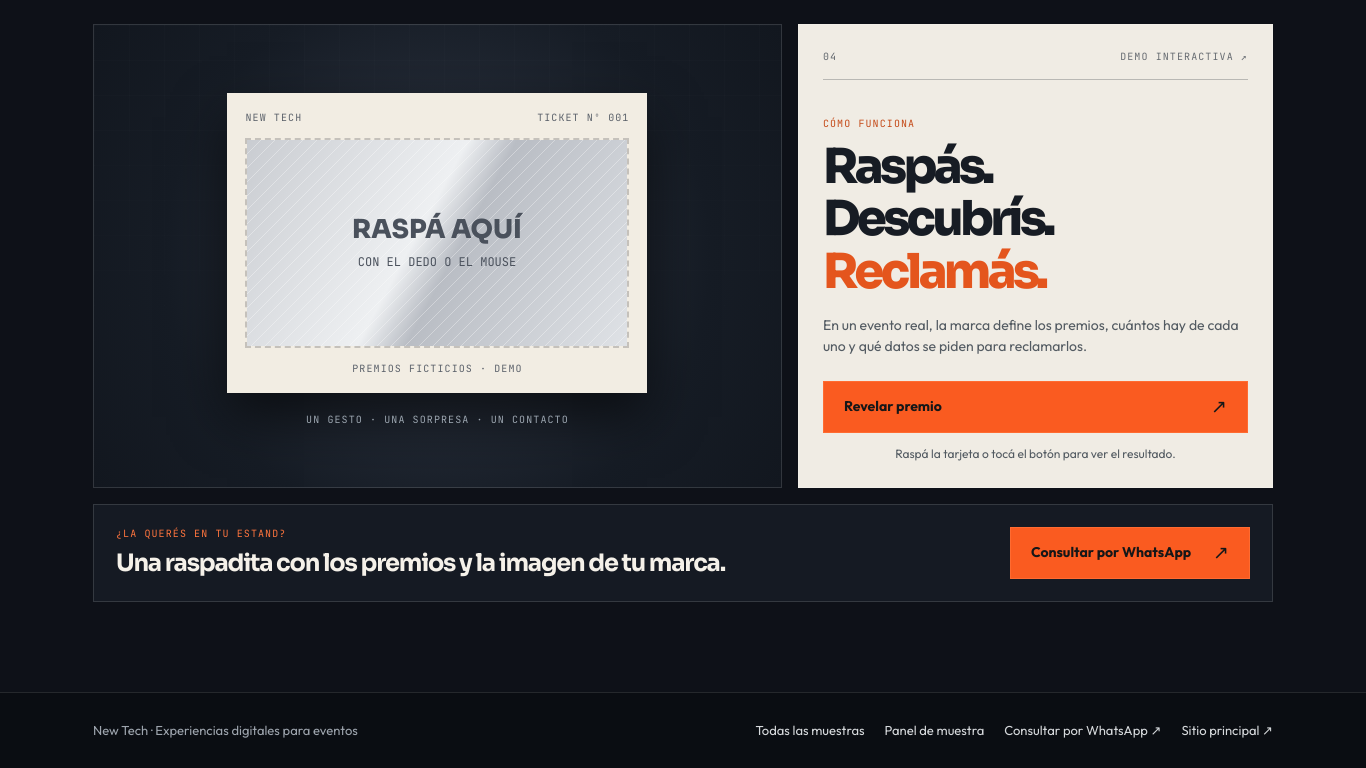
it: demo de experiencias › permite raspar otra tarjeta si no hay premio
(page scrolled)
Click the button "Revelar premio ↗" at coordinates (893, 406), box [823, 381, 1248, 433]
Wait 1000 ms
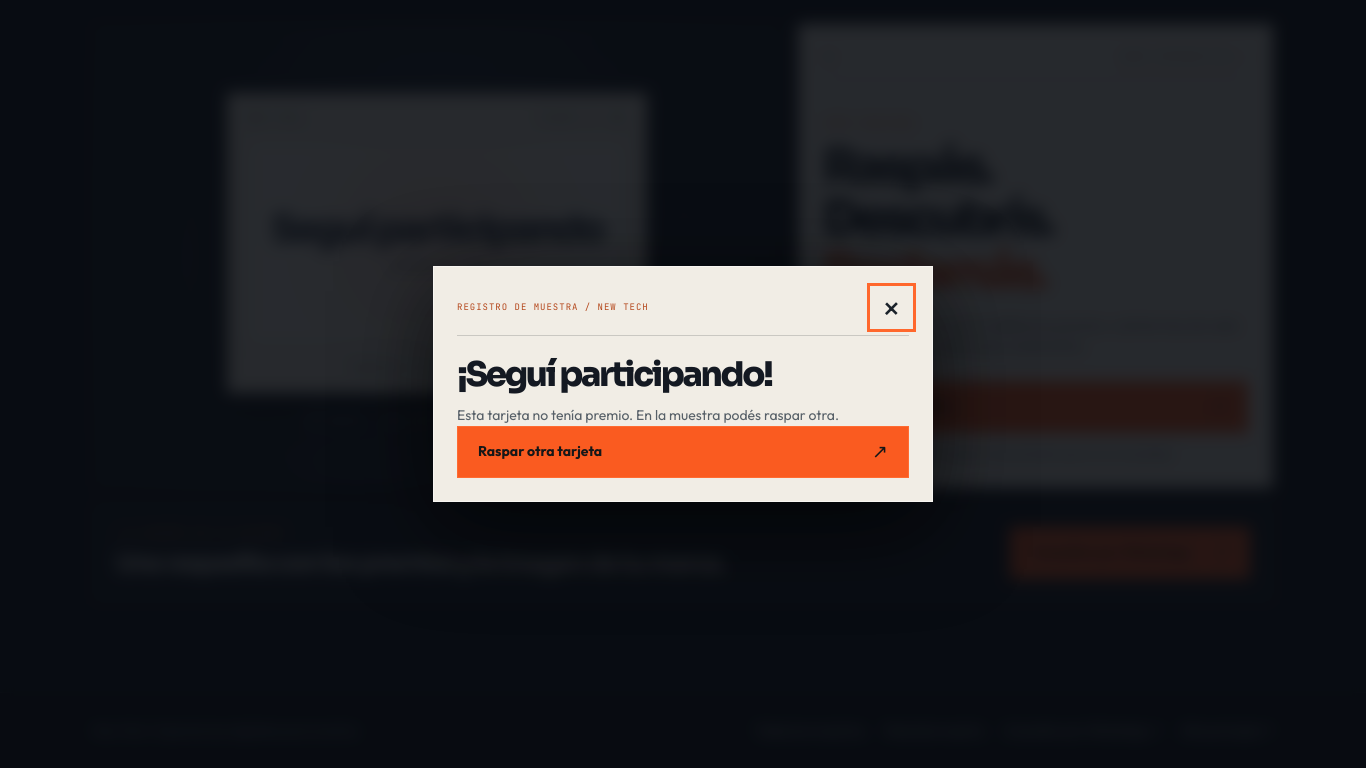
Check: the dialog "Seguí participando" is shown, box [433, 266, 933, 502]
Click the button "Raspar otra tarjeta ↗" at coordinates (540, 451), box [457, 426, 909, 478]
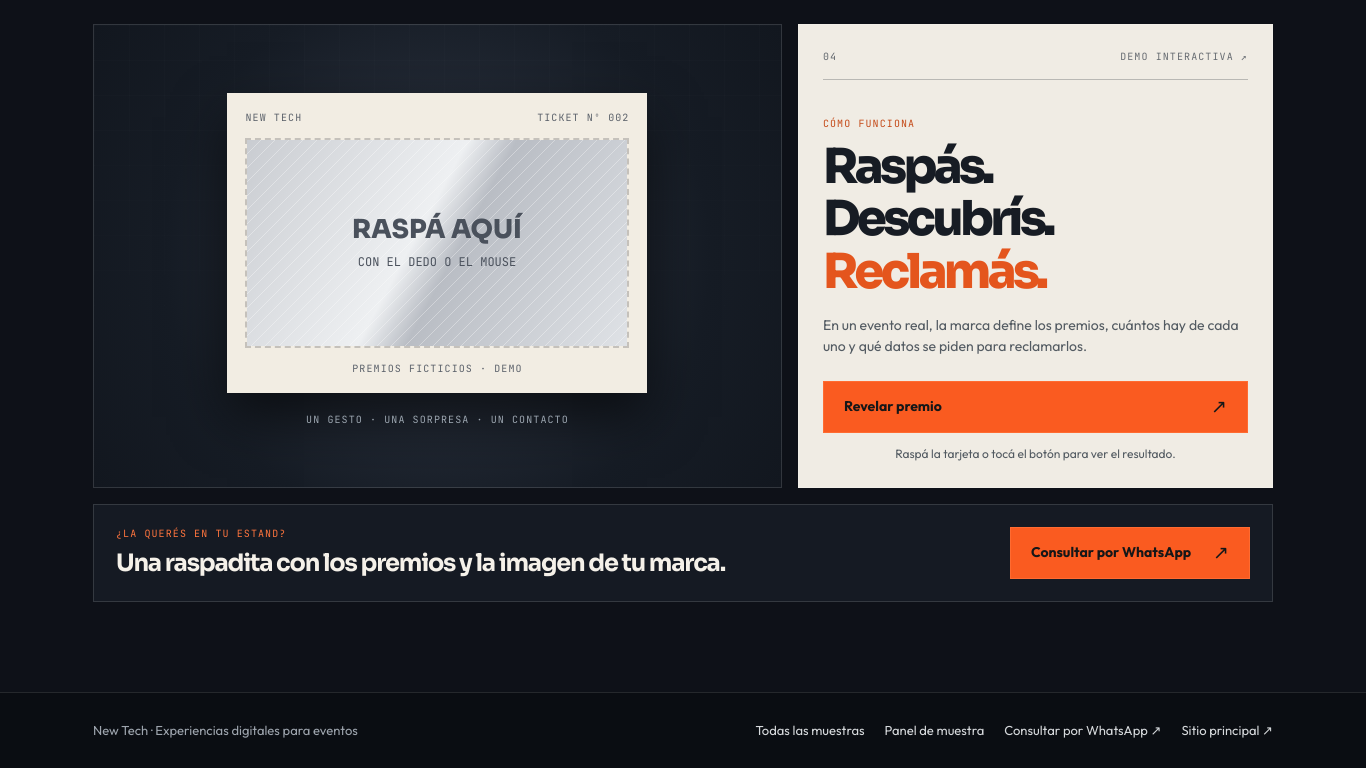
Check: the dialog is gone
Check: the button "Revelar premio ↗" is shown, box [823, 381, 1248, 433]
